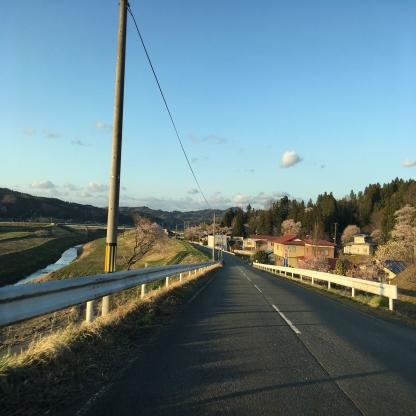Someiyoshino: (381, 196, 416, 261), (129, 210, 173, 259), (182, 219, 234, 246), (336, 218, 365, 249), (278, 216, 302, 237), (369, 225, 385, 247), (302, 205, 316, 215)
